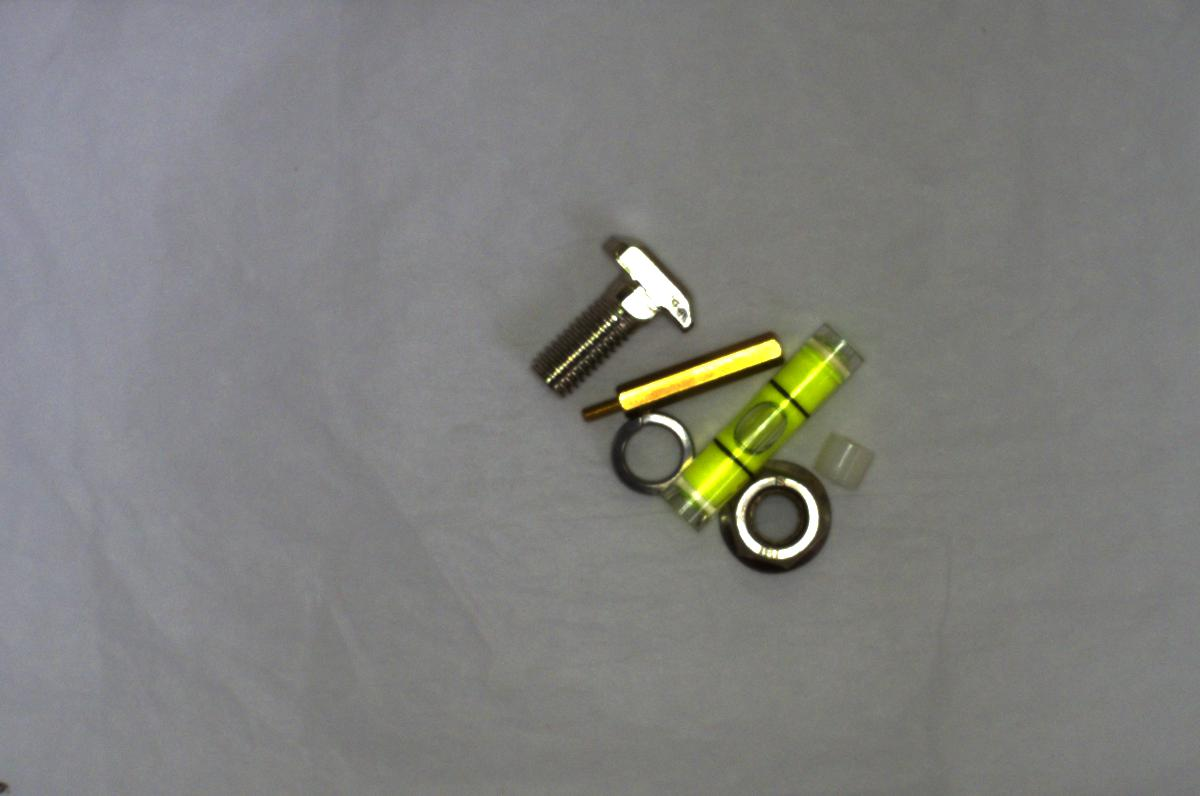Flange nut: (701, 467, 841, 579)
Hexagon pillar: (579, 328, 785, 423)
Horizontal bubble: (668, 313, 858, 527)
Plastic cushion pillar: (814, 423, 872, 493)
Spring washer: (606, 413, 698, 496)
T-shaped screw: (524, 227, 698, 395)
